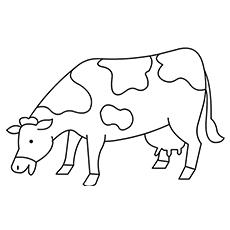cow: (10, 48, 206, 188)
